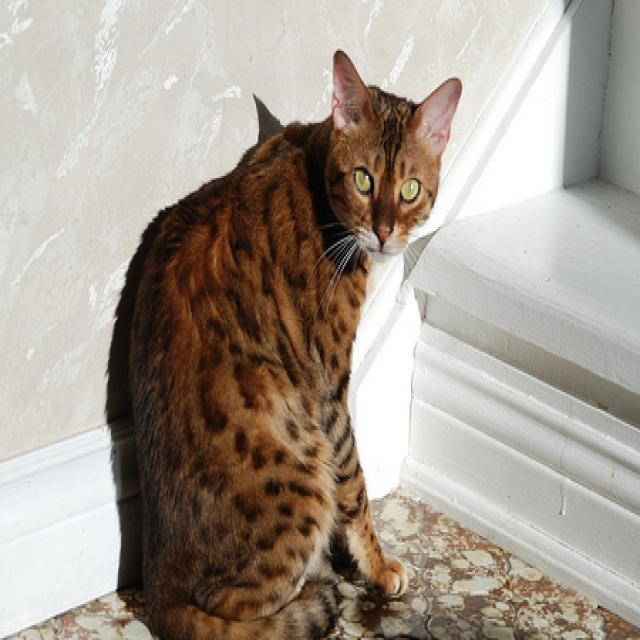Bengal: (125, 32, 467, 640)
